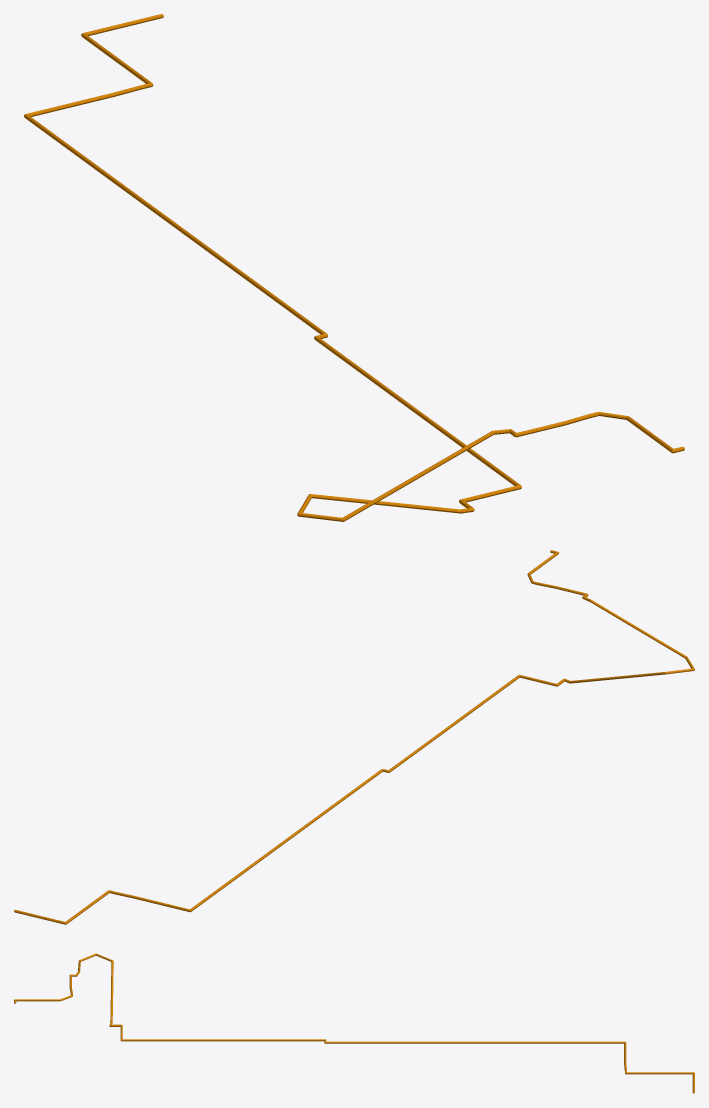
3 renders of one model, top to bottom at view 1: azimuth 30°, elevation 25°; view 2: azimuth 150°, elevation 25°; view 3: azimuth 270°, elevation 25°, orthographic. The views are drawn at different scales.
Bounding box in the file's own units: 2368 × 520 × 6018.
